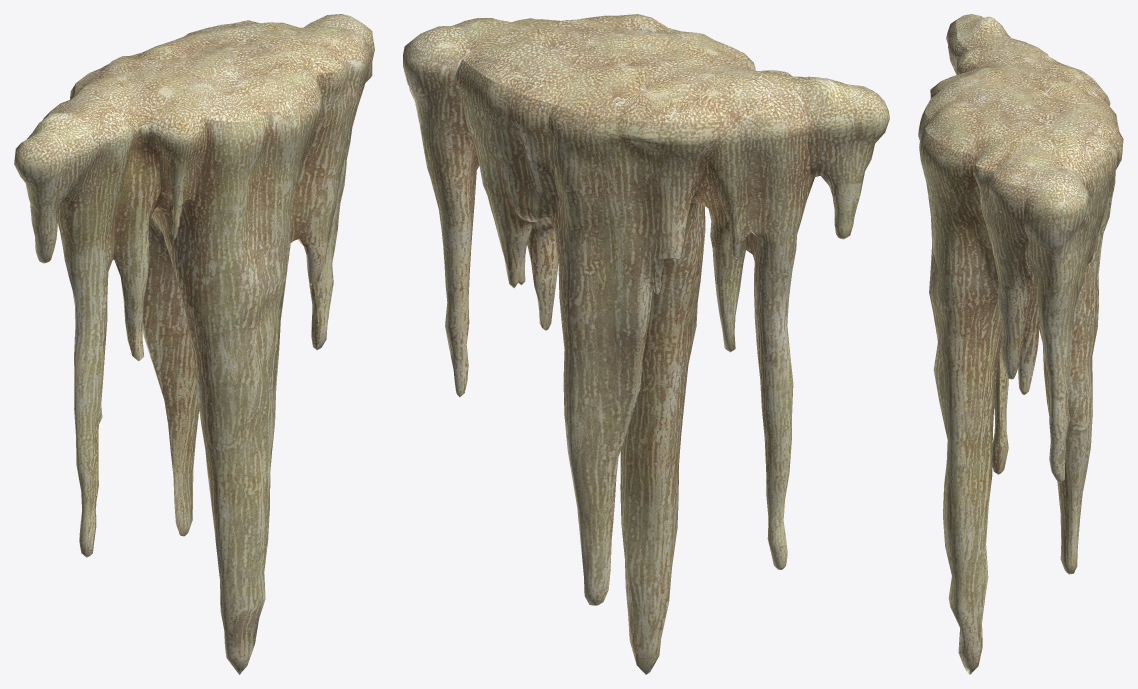
Rendered from cave_stalactites_quality02.dae.
3 renders of one model, left to right at view 1: azimuth 30°, elevation 25°; view 2: azimuth 150°, elevation 25°; view 3: azimuth 270°, elevation 25°, orthographic. The views are drawn at different scales.
Visible parts, largest first — view 1: cave_stalactites_quality02_; view 2: cave_stalactites_quality02_; view 3: cave_stalactites_quality02_.
Part boxes in pixels (bbox=[...]): cave_stalactites_quality02_: bbox=[14, 14, 374, 674]; cave_stalactites_quality02_: bbox=[403, 14, 889, 674]; cave_stalactites_quality02_: bbox=[918, 14, 1123, 674].
Bounding box in the file's own units: 0.7531 × 1.09 × 0.3486.
